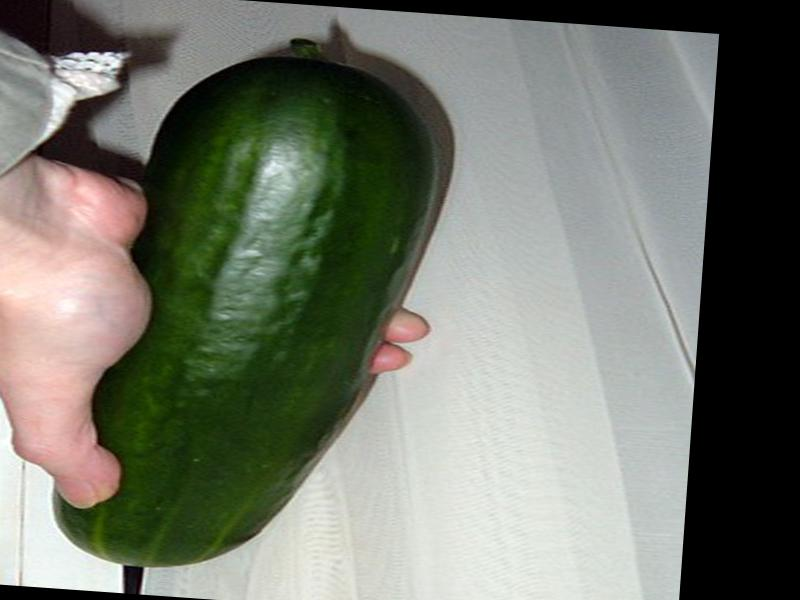Cucumber: (51, 22, 459, 586)
